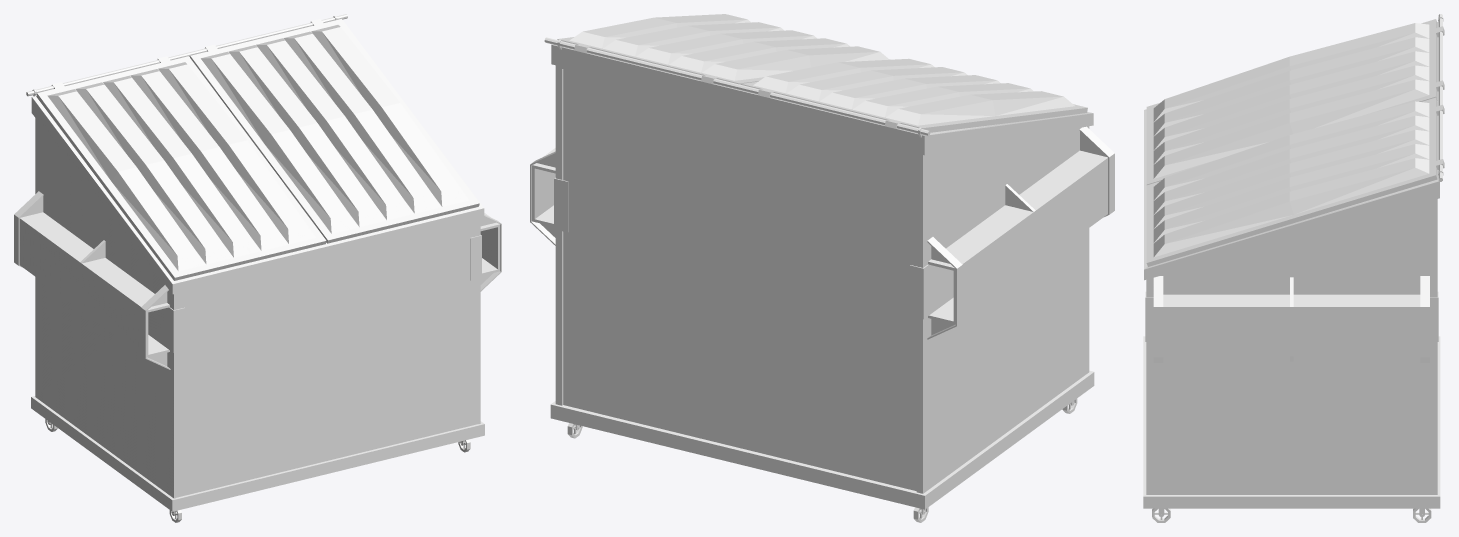
Rendered from Prop_Dumpster_01.glb.
3 renders of one model, left to right at view 1: azimuth 30°, elevation 25°; view 2: azimuth 150°, elevation 25°; view 3: azimuth 270°, elevation 25°, orthographic. The views are drawn at different scales.
Visible parts, largest first — view 1: Prop_Dumpster_01, Prop_Dumpster_Top_Left_01, Prop_Dumpster_Top_Right_01; view 2: Prop_Dumpster_01, Prop_Dumpster_Top_Left_01, Prop_Dumpster_Top_Right_01; view 3: Prop_Dumpster_01, Prop_Dumpster_Top_Right_01, Prop_Dumpster_Top_Left_01.
Part boxes in pixels (box(x1,y1,x2,y2)): Prop_Dumpster_01: box(14, 14, 501, 522); Prop_Dumpster_Top_Left_01: box(36, 56, 326, 280); Prop_Dumpster_Top_Right_01: box(190, 19, 479, 243); Prop_Dumpster_01: box(530, 37, 1114, 522); Prop_Dumpster_Top_Left_01: box(741, 58, 1087, 132); Prop_Dumpster_Top_Right_01: box(557, 14, 889, 84); Prop_Dumpster_01: box(1143, 14, 1443, 522); Prop_Dumpster_Top_Right_01: box(1146, 97, 1444, 266); Prop_Dumpster_Top_Left_01: box(1146, 19, 1444, 184).
Bounding box in the file's own units: 1.78 × 1.6 × 1.24.
Materials: 1 (1 with a texture image).
